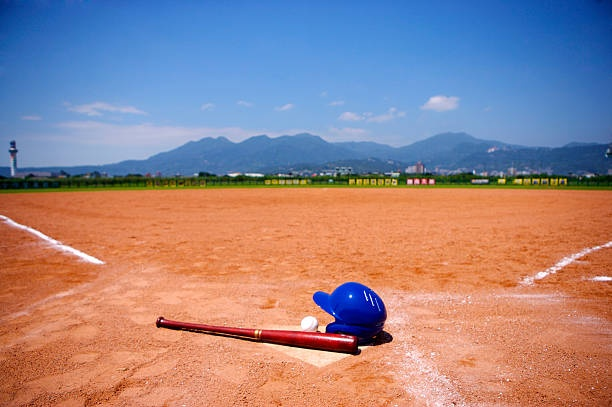bita: (151, 317, 358, 351)
